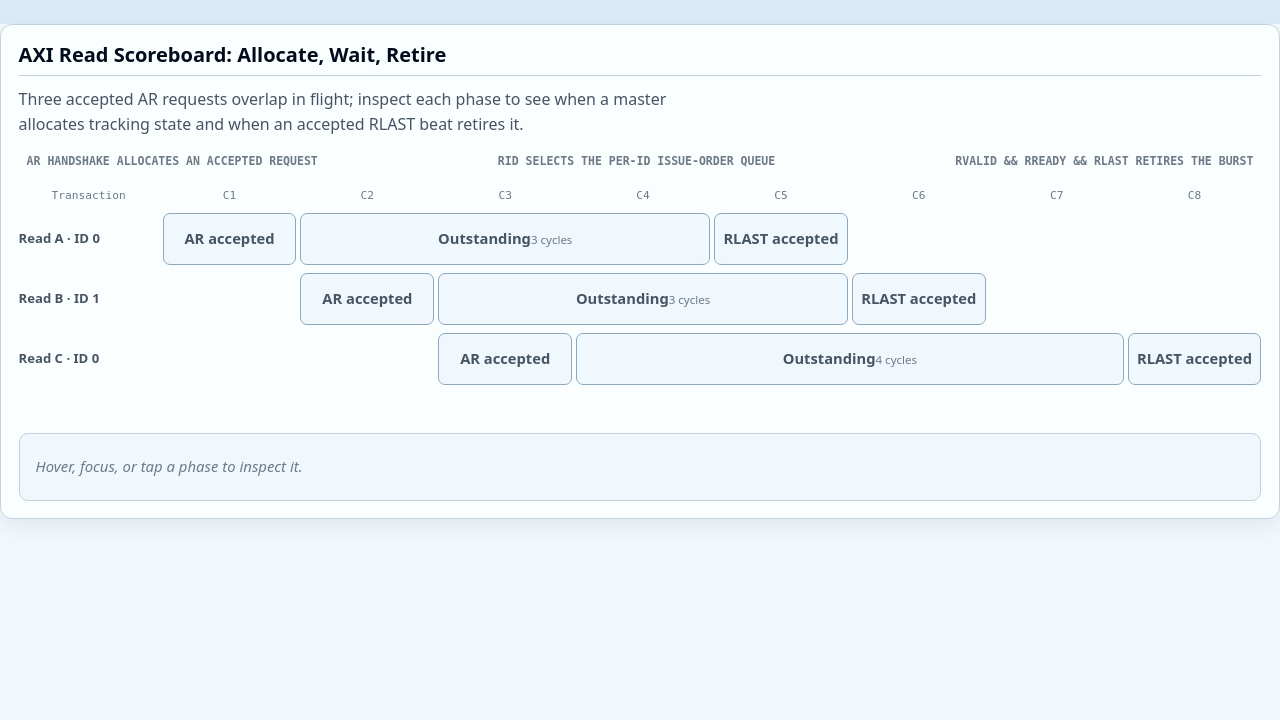
Test: production visual rendering › reveals same-ID reuse in the outstanding scoreboard timeline
Expected: the heading "AXI Read Scoreboard: Allocate, Wait, Retire" is shown, [19,43,1261,76]
Focus the button with aria-label "Read C · ID 0: AR accepted, cycles 3 to 4" at (505, 359), box [438,333,572,385]
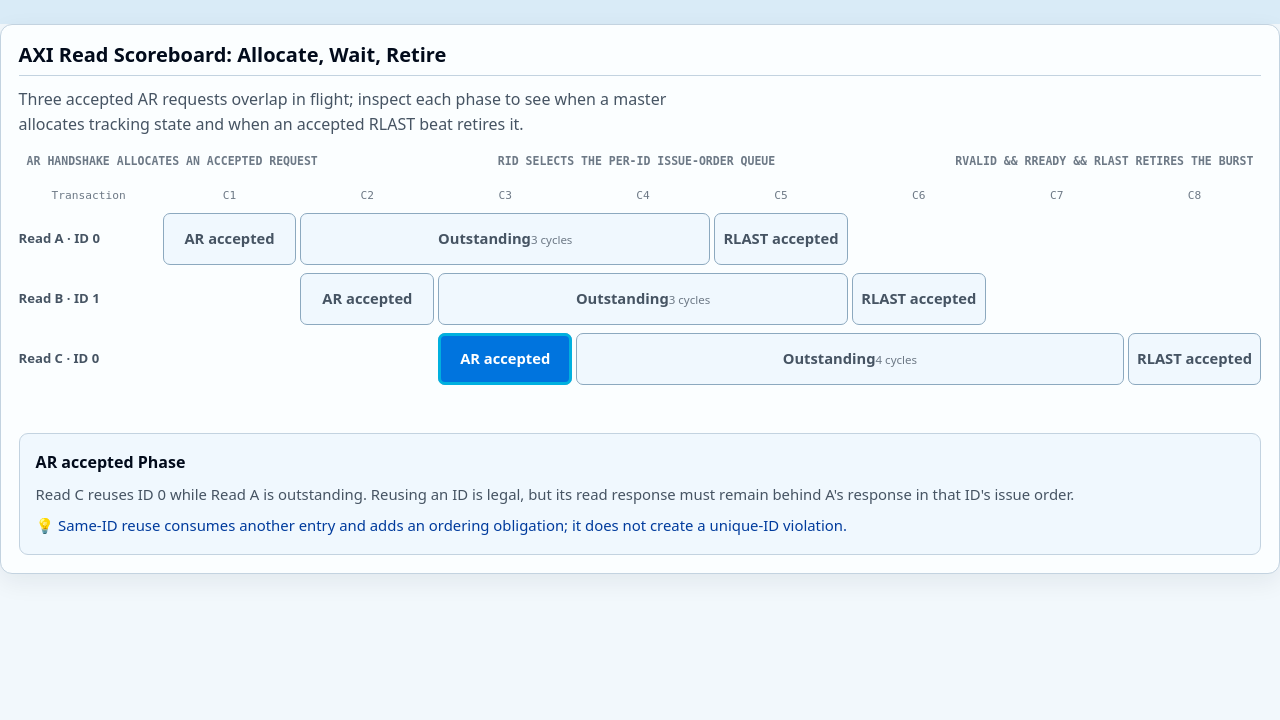
Now the text "Reusing an ID is legal" is shown, box [36,484,1074,504]
